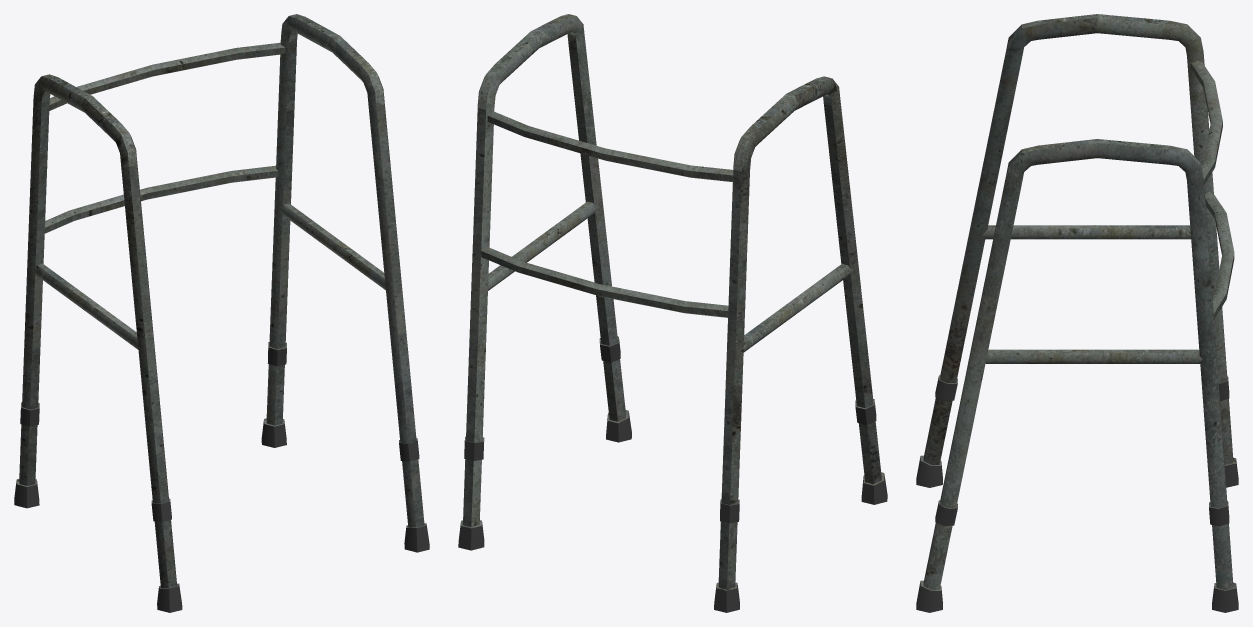
Rendered from PODKRADULI.fbx.
3 views of the same model, side by side, from view 1: azimuth 30°, elevation 25°; view 2: azimuth 150°, elevation 25°; view 3: azimuth 270°, elevation 25° (orthographic). The views are drawn at different scales.
Visible parts, largest first — view 1: PODKRADULI; view 2: PODKRADULI; view 3: PODKRADULI.
Part boxes in pixels (box(x1,y1,x2,y2)): PODKRADULI: box(14, 14, 429, 612); PODKRADULI: box(458, 14, 887, 612); PODKRADULI: box(916, 14, 1238, 612).
Bounding box in the file's own units: 1961 × 3099 × 1943.
Materials: 2 (1 with a texture image).
